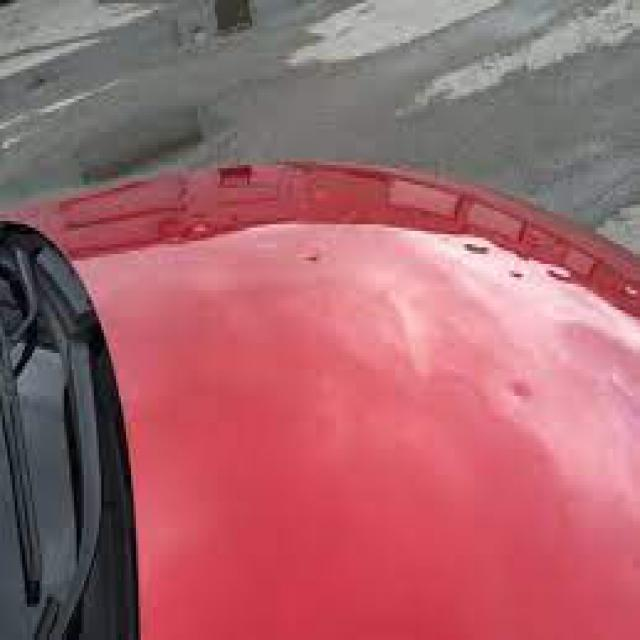bonnet-dent: (3, 155, 638, 544)
